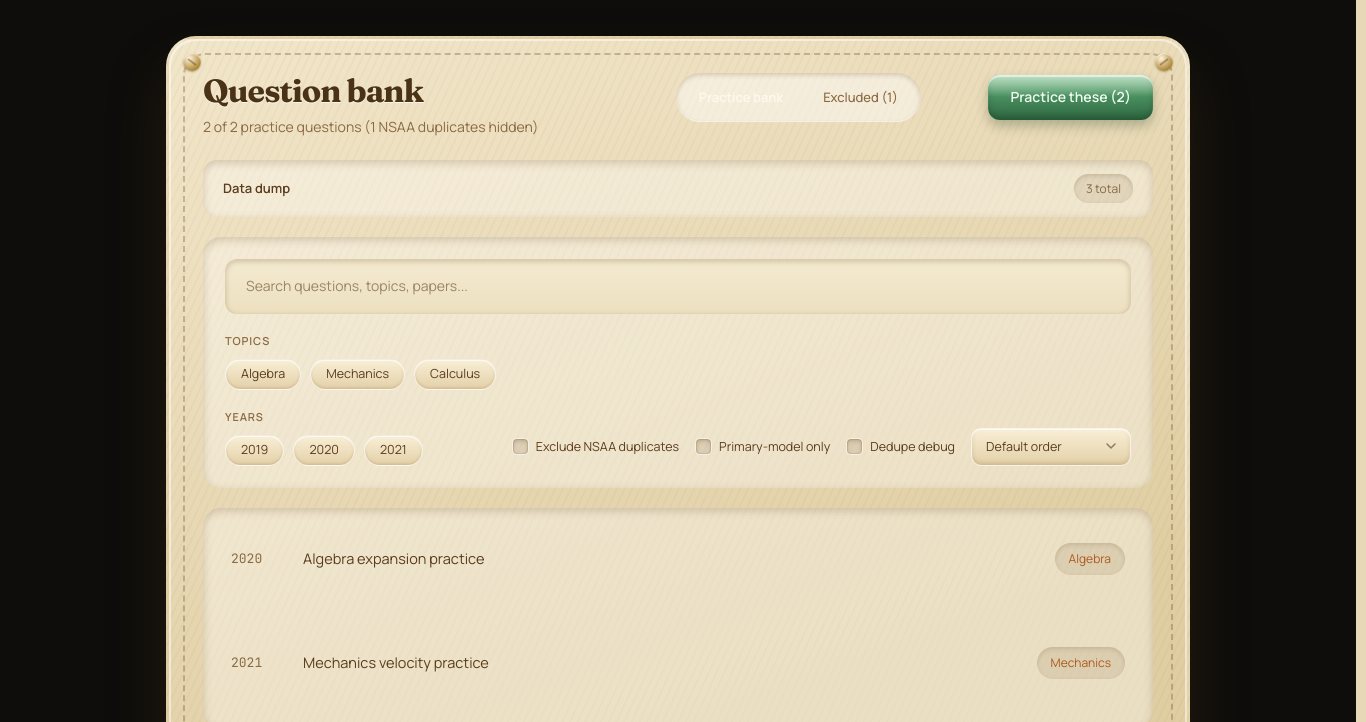
QuestionBank › reports hidden NSAA duplicates and can un-hide them
Expected: the text "2 of 2 practice questions (1 NSAA duplicates hidden)" is shown, [203,116,539,138]
Click the checkbox labelled "Exclude NSAA duplicates".
click(520, 447)  # box [512,438,529,456]
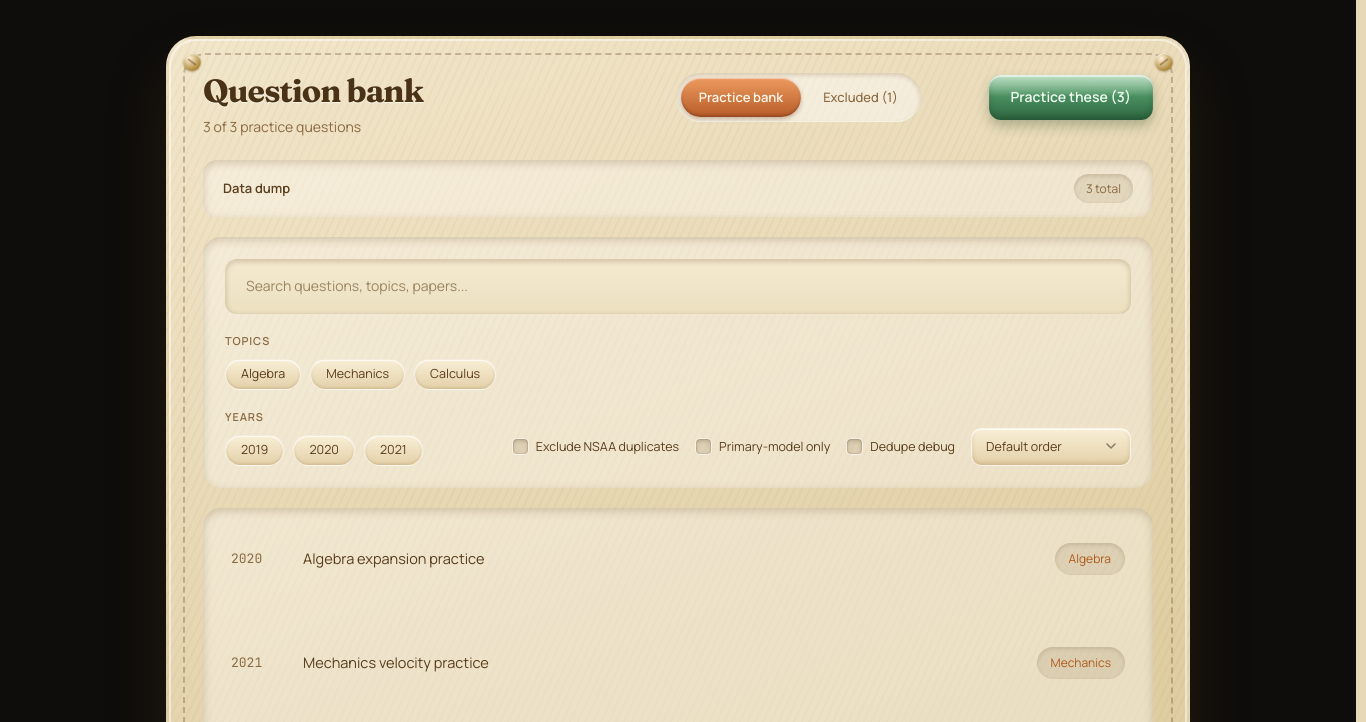
Now the text "NSAA duplicates hidden" is gone
Now the text "3 of 3 practice questions" is shown, box [203,117,361,136]
